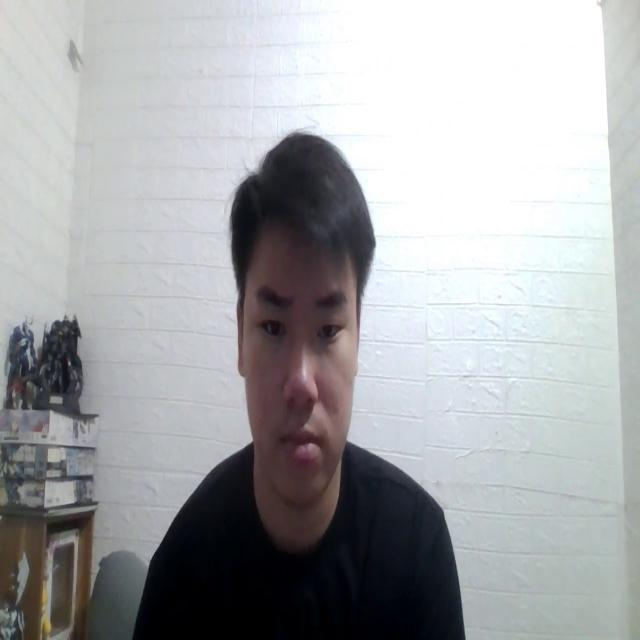student: (131, 126, 465, 640)
